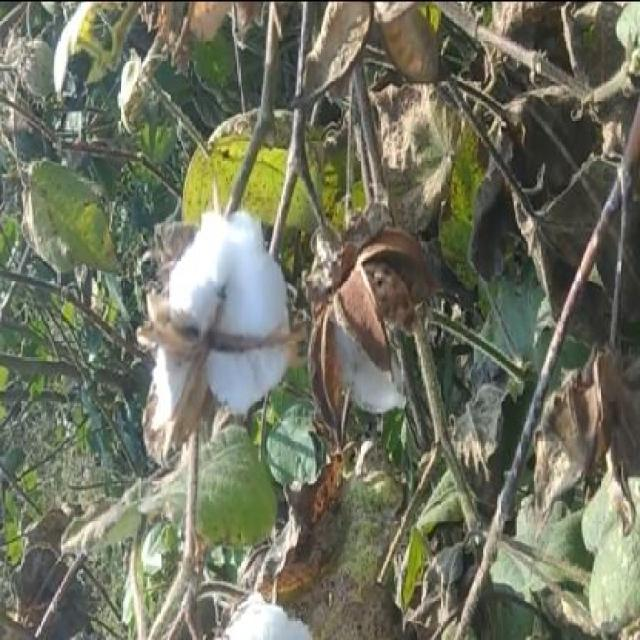cotton_ready: (140, 181, 303, 479)
